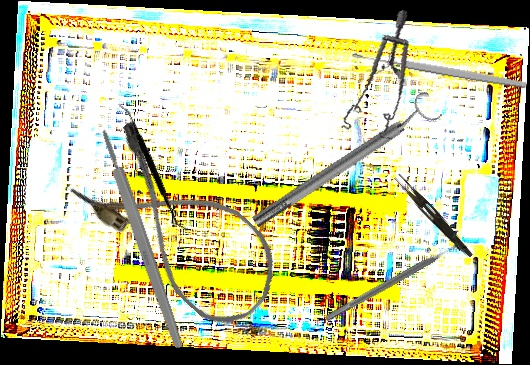Cannula: (65, 114, 297, 342)
Dressing Forceps: (390, 172, 478, 260)
Fixation Ring: (244, 89, 445, 236), (319, 228, 470, 330)
Scalpel Handle: (97, 127, 187, 351)
Spatula Surgical: (81, 103, 226, 232)
Speculum: (322, 9, 430, 148)
Surgical Spoon: (351, 49, 528, 91)
